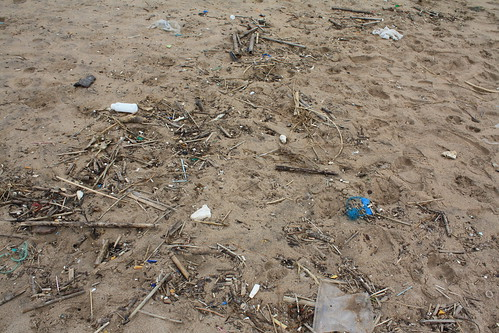beach: (1, 1, 490, 330)
